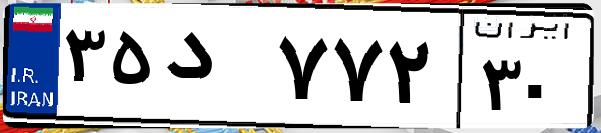0: (525, 38, 570, 115)
2: (385, 28, 445, 110)
3: (57, 26, 110, 100), (475, 38, 525, 113)
5: (110, 28, 158, 98)
7: (270, 28, 330, 110), (330, 28, 385, 110)
د: (158, 20, 270, 120)
